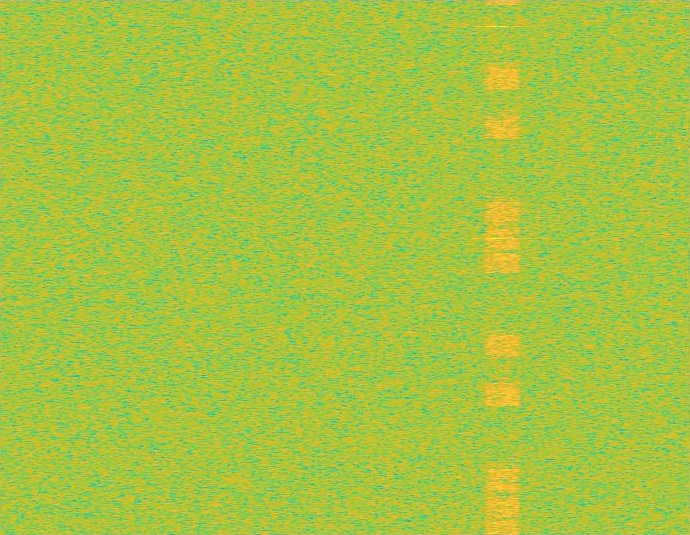LTE: (485, 0, 520, 534)
Radar: (490, 0, 503, 534)
